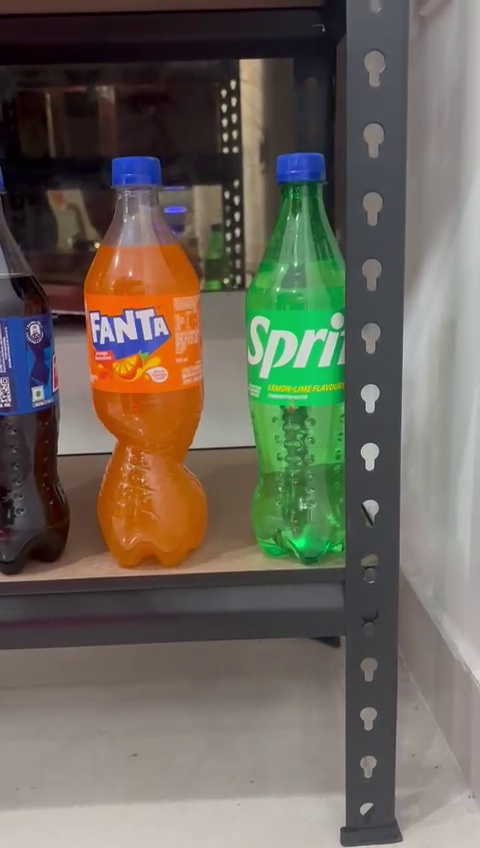Fanta: (74, 149, 229, 573)
Sprit: (238, 148, 348, 574)
